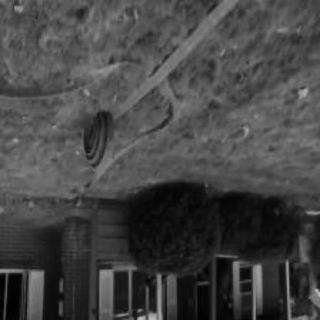other: (90, 200, 121, 261)
